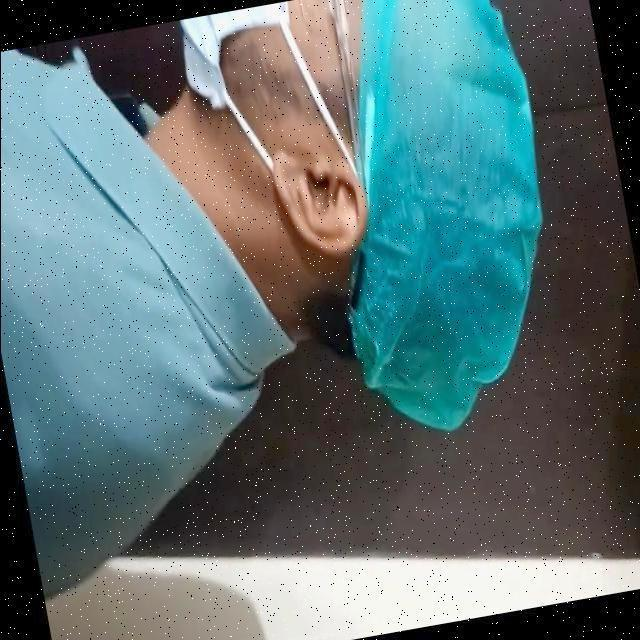gloves: (305, 0, 558, 379)
